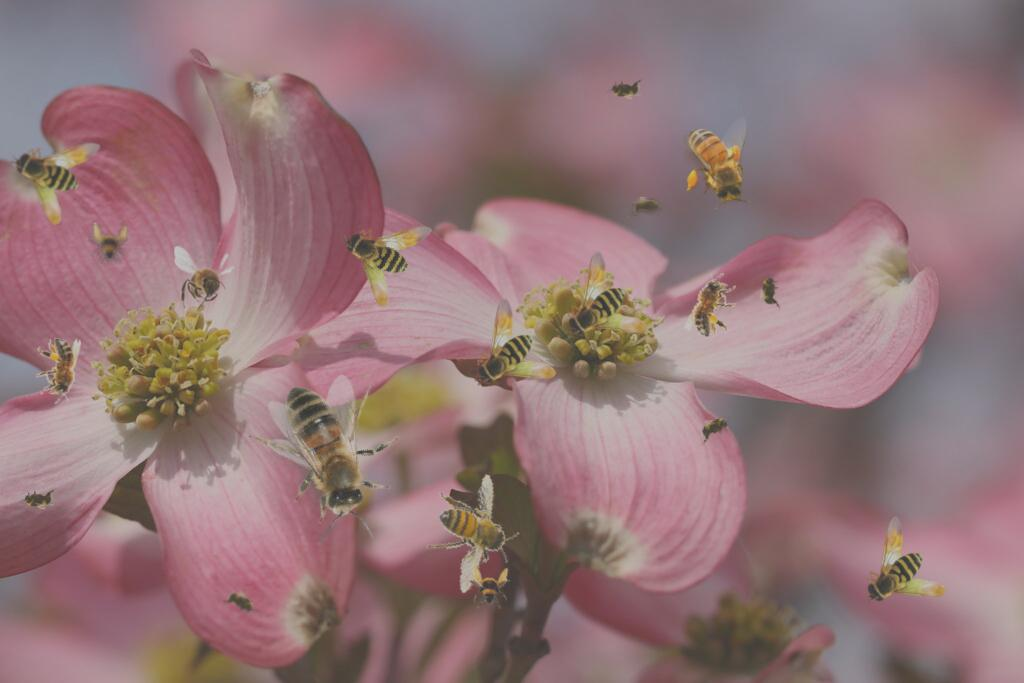Bee: (219, 341, 444, 569), (412, 469, 531, 601), (7, 117, 125, 231), (338, 200, 454, 312), (564, 249, 650, 341), (864, 516, 946, 604), (474, 298, 556, 386), (683, 116, 751, 209), (683, 267, 743, 342), (174, 246, 235, 316), (36, 338, 81, 404), (466, 565, 510, 609), (86, 222, 130, 266), (218, 582, 264, 624), (692, 409, 738, 447), (627, 196, 667, 218), (605, 78, 645, 100), (18, 488, 58, 510), (759, 271, 781, 311)
